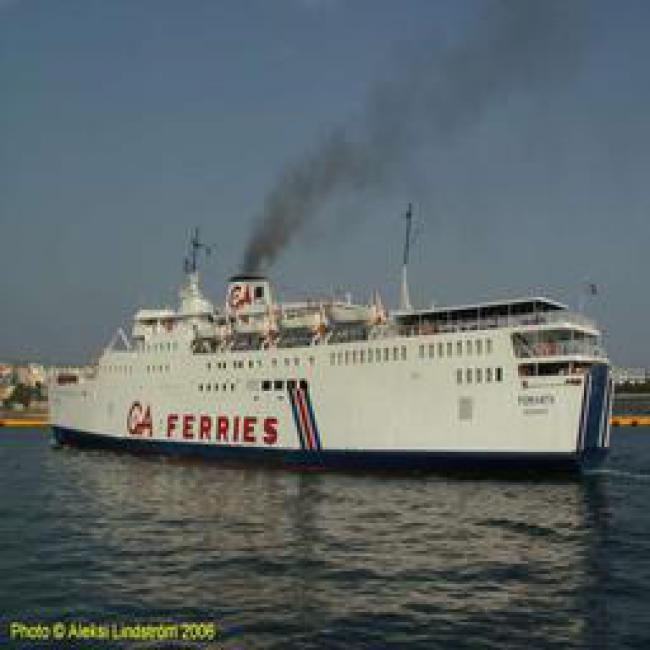Ship: (32, 293, 613, 460)
